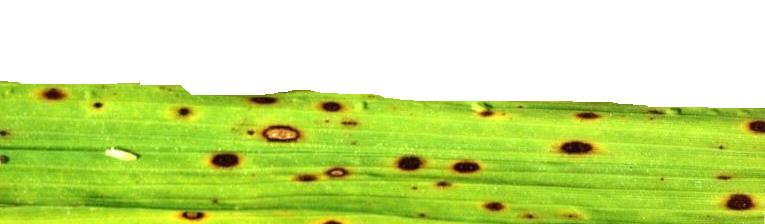brown_spot: (91, 91, 604, 219)
